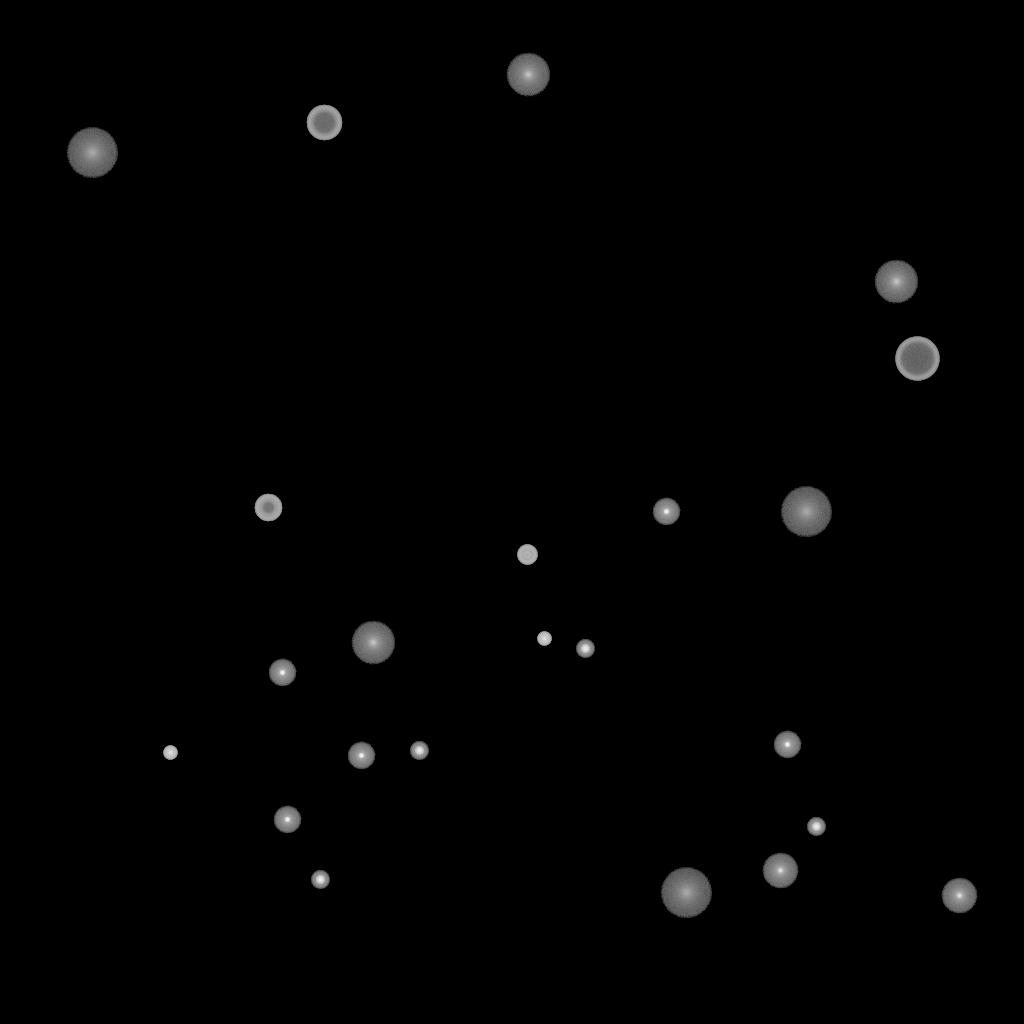depth:-10: (347, 742, 375, 770), (268, 659, 296, 687), (273, 806, 301, 834), (652, 498, 680, 526), (773, 731, 801, 759)
depth:-20: (807, 818, 825, 836), (311, 871, 329, 889), (410, 742, 428, 760), (576, 640, 594, 658)
depth:-30: (537, 632, 551, 646), (163, 746, 177, 760)
depth:-40: (517, 545, 537, 565)
depth:-50: (254, 494, 282, 522)
depth:-60: (306, 105, 342, 141)
depth:-70: (895, 337, 939, 381)
depth:0: (762, 853, 798, 889), (941, 878, 977, 914)
depth:10: (506, 53, 550, 97), (874, 260, 918, 304), (351, 621, 395, 665)
depth:20: (780, 487, 832, 537), (660, 868, 712, 918), (66, 128, 118, 178)
